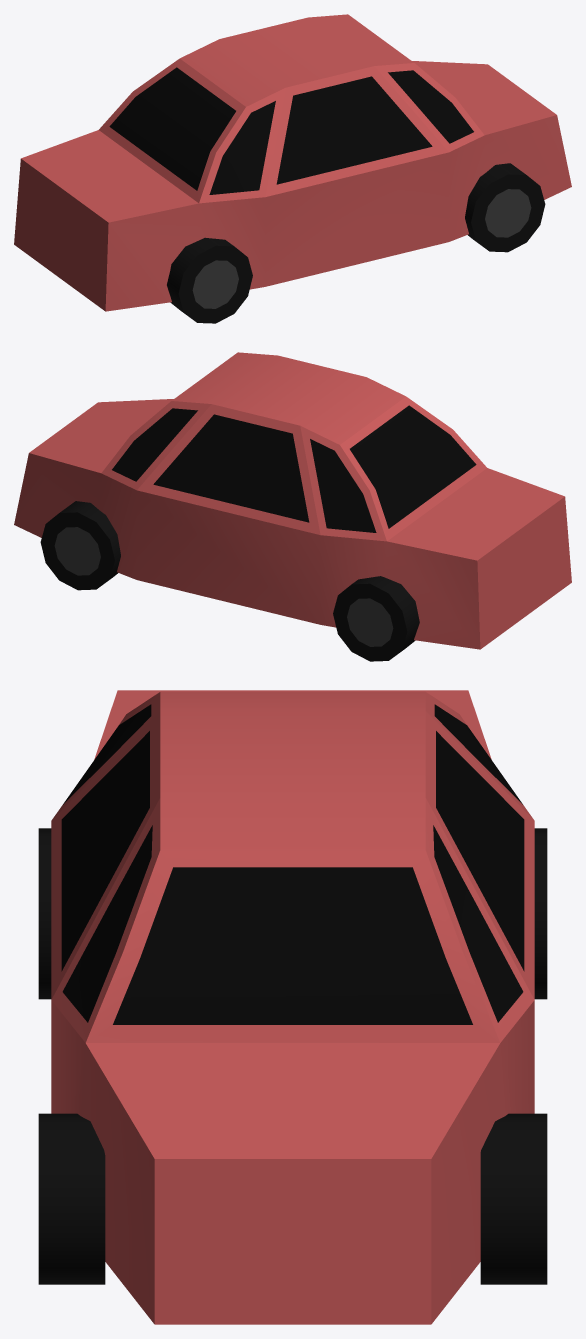
File: Car_Red.FBX
3 views of the same model, one above another, from view 1: azimuth 30°, elevation 25°; view 2: azimuth 150°, elevation 25°; view 3: azimuth 270°, elevation 25° (orthographic). The views are drawn at different scales.
Parts seen in each view (by area): view 1: Car_Red; view 2: Car_Red; view 3: Car_Red.
Part boxes in pixels (x1=…): Car_Red: x1=14, y1=14, x2=571, y2=323; Car_Red: x1=14, y1=352, x2=571, y2=661; Car_Red: x1=38, y1=690, x2=547, y2=1324.
Bounding box in the file's own units: 749 × 283 × 345.
